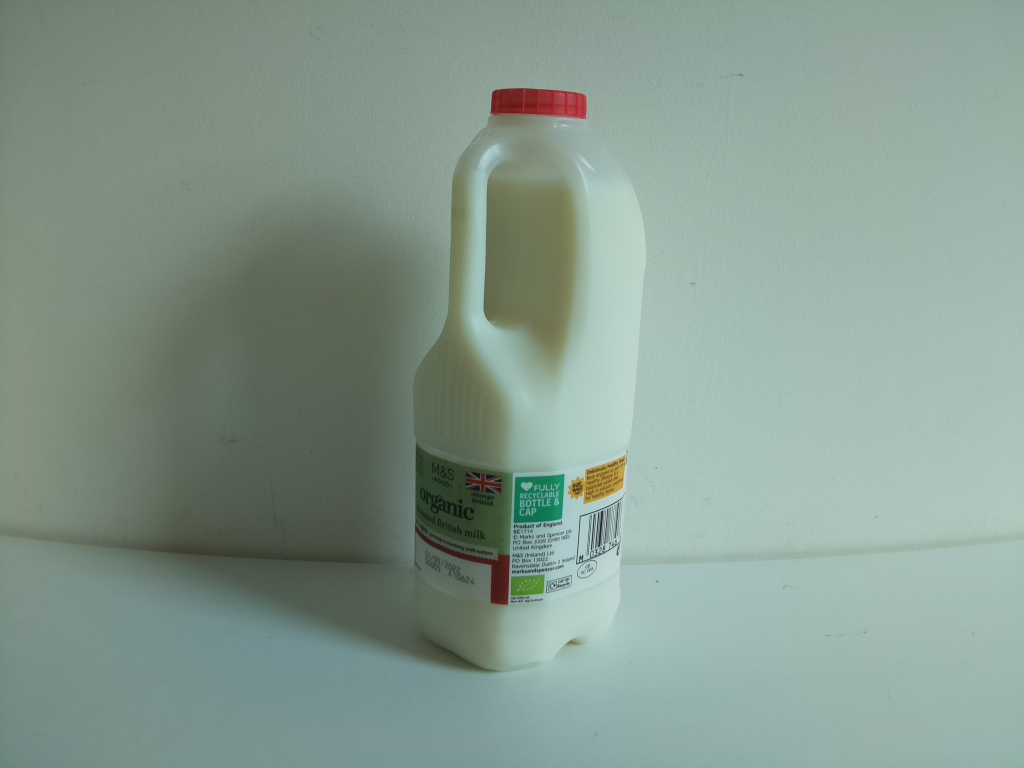milk: (410, 77, 652, 670)
